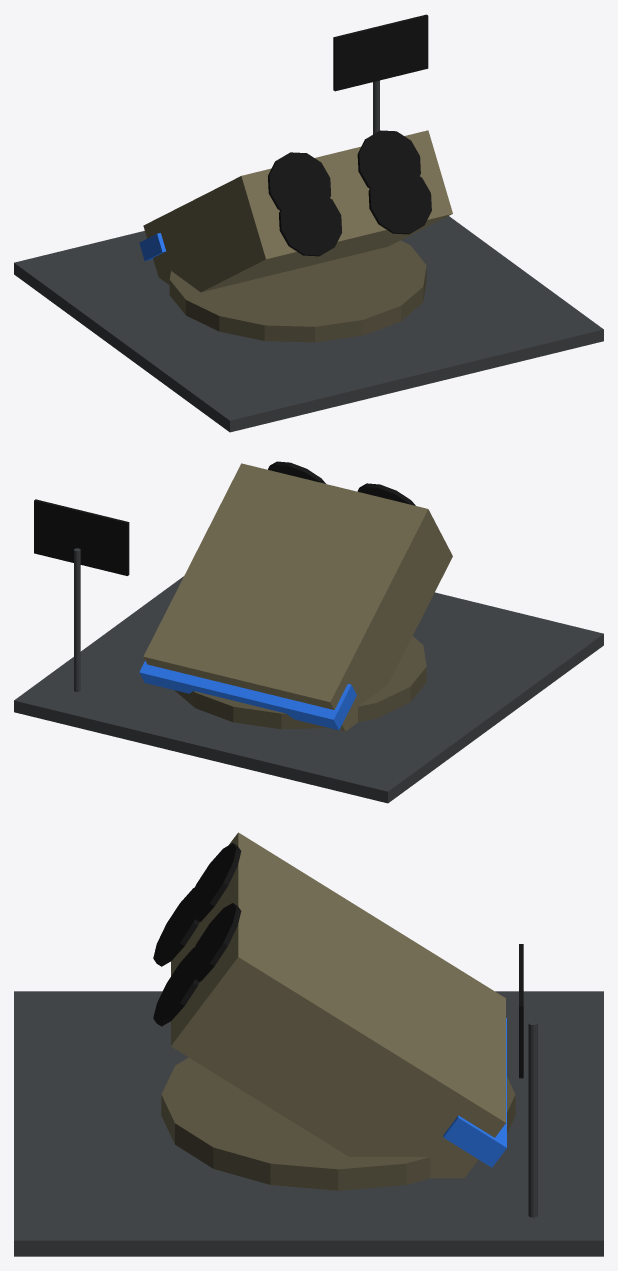
The model's file is us_hypersonic_battery.glb.
3 renders of one model, top to bottom at view 1: azimuth 30°, elevation 25°; view 2: azimuth 150°, elevation 25°; view 3: azimuth 270°, elevation 25°, orthographic. The views are drawn at different scales.
Visible parts, largest first — view 1: base, barrel, turret, radar_panel, tube_0, tube_1, tube_2, tube_3; view 2: barrel, base, radar_panel, turret, team_band, radar_mast, tube_3, tube_2; view 3: base, barrel, turret, tube_3, radar_mast, tube_2, team_band, tube_0, tube_1, radar_panel.
Part boxes in pixels (x1,y1,x2,y2): base: (14, 216, 603, 432); barrel: (143, 130, 452, 292); turret: (169, 240, 426, 342); radar_panel: (333, 14, 428, 91); tube_0: (279, 189, 341, 256); tube_1: (368, 167, 431, 234); tube_2: (268, 152, 331, 217); tube_3: (357, 130, 420, 190); barrel: (143, 463, 452, 731); base: (14, 576, 603, 803); radar_panel: (34, 499, 129, 575); turret: (175, 636, 426, 729); team_band: (139, 660, 356, 730); radar_mast: (74, 548, 80, 691); tube_3: (268, 461, 325, 483); tube_2: (357, 483, 415, 505); base: (14, 991, 603, 1256); barrel: (171, 832, 505, 1178); turret: (161, 1057, 515, 1190); tube_3: (183, 903, 241, 983); radar_mast: (528, 1021, 537, 1217); tube_2: (184, 843, 241, 923); team_band: (443, 1018, 506, 1167); tube_0: (153, 883, 204, 966); tube_1: (153, 942, 204, 1026); radar_panel: (519, 944, 523, 1078).
Size of the model in its own units: 10.25 by 5.14 by 10.
